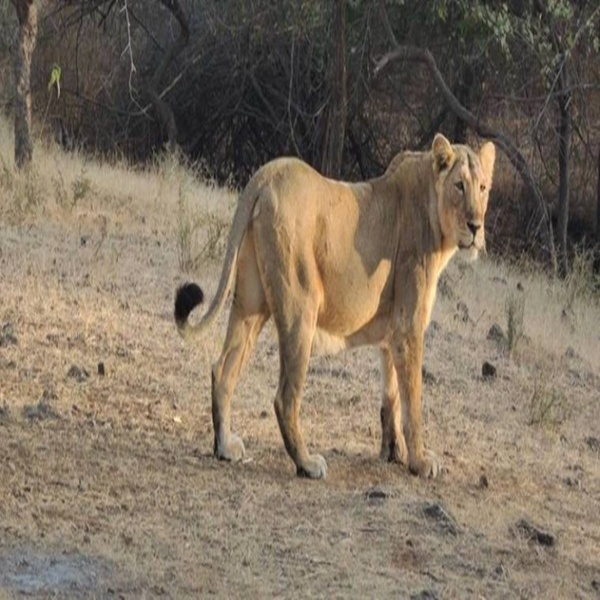Lion: (171, 130, 498, 480)
